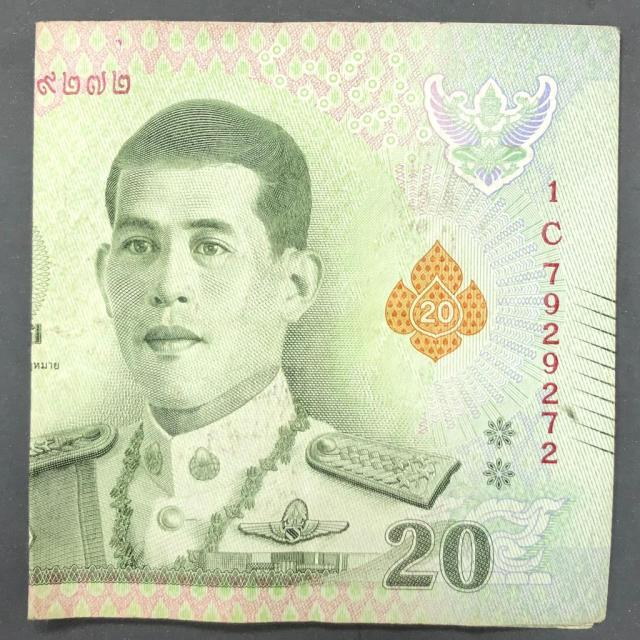THAI20: (25, 22, 620, 628)
